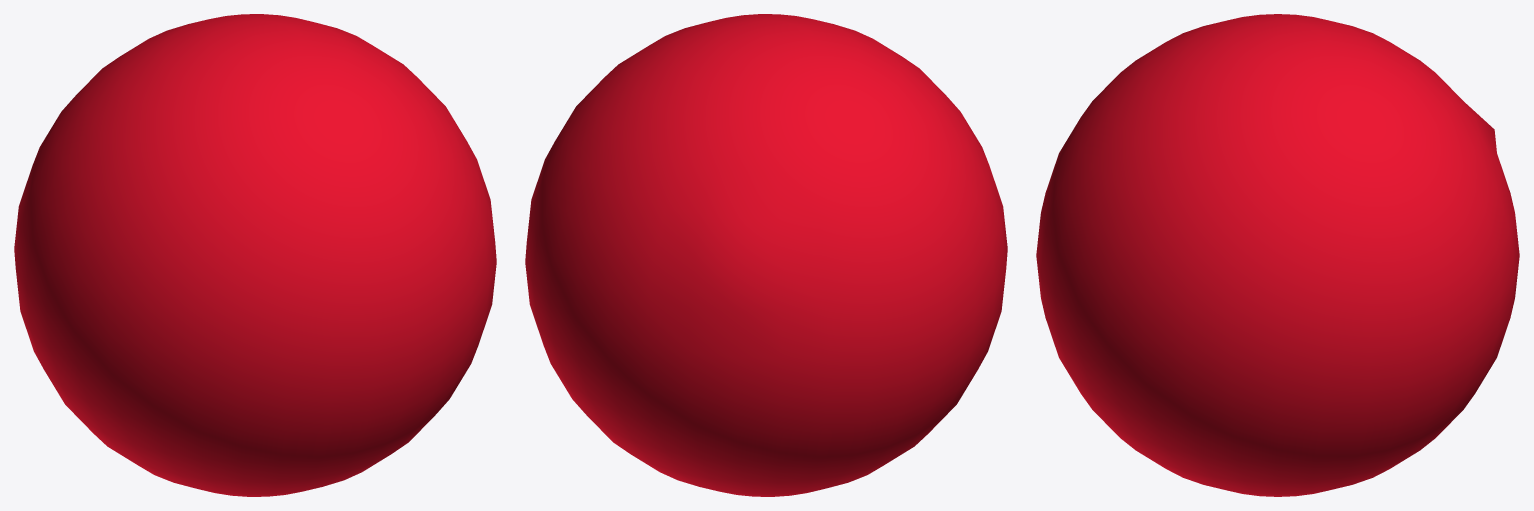
The model's file is target_model.glb.
3 views of the same model, side by side, from view 1: azimuth 30°, elevation 25°; view 2: azimuth 150°, elevation 25°; view 3: azimuth 270°, elevation 25° (orthographic).
Visible parts, largest first — view 1: Sphere; view 2: Sphere; view 3: Sphere.
Part boxes in pixels (left/top/right/bottom): Sphere: left=14, top=14, right=496, bottom=496; Sphere: left=525, top=14, right=1007, bottom=496; Sphere: left=1036, top=14, right=1519, bottom=496.
Bounding box in the file's own units: 0.5 × 0.5 × 0.5.
